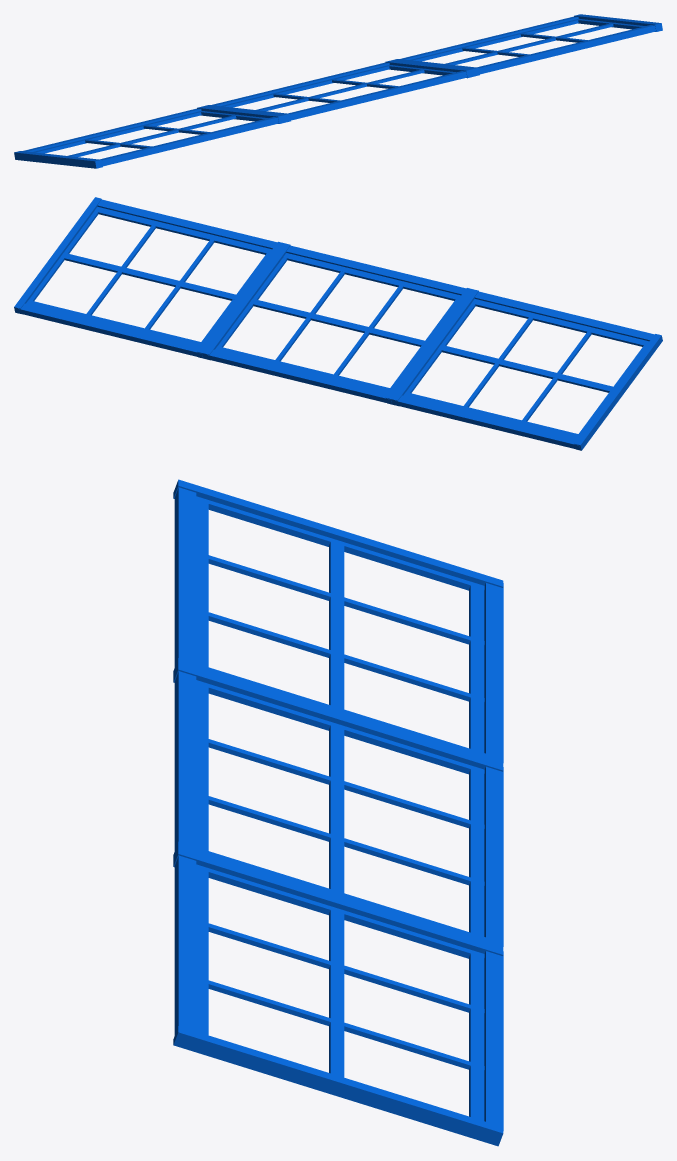
Rendered from Warehouse_01_Window_S_03.fbx.
3 renders of one model, top to bottom at view 1: azimuth 30°, elevation 25°; view 2: azimuth 150°, elevation 25°; view 3: azimuth 270°, elevation 25°, orthographic. The views are drawn at different scales.
Parts seen in each view (by area): view 1: Warehouse_01_Window_S_03; view 2: Warehouse_01_Window_S_03; view 3: Warehouse_01_Window_S_03.
Part boxes in pixels (box(x1,y1,x2,y2)): Warehouse_01_Window_S_03: box(14, 14, 662, 168); Warehouse_01_Window_S_03: box(14, 197, 662, 450); Warehouse_01_Window_S_03: box(173, 479, 503, 1146).
Bounding box in the file's own units: 1236 × 119 × 312.
